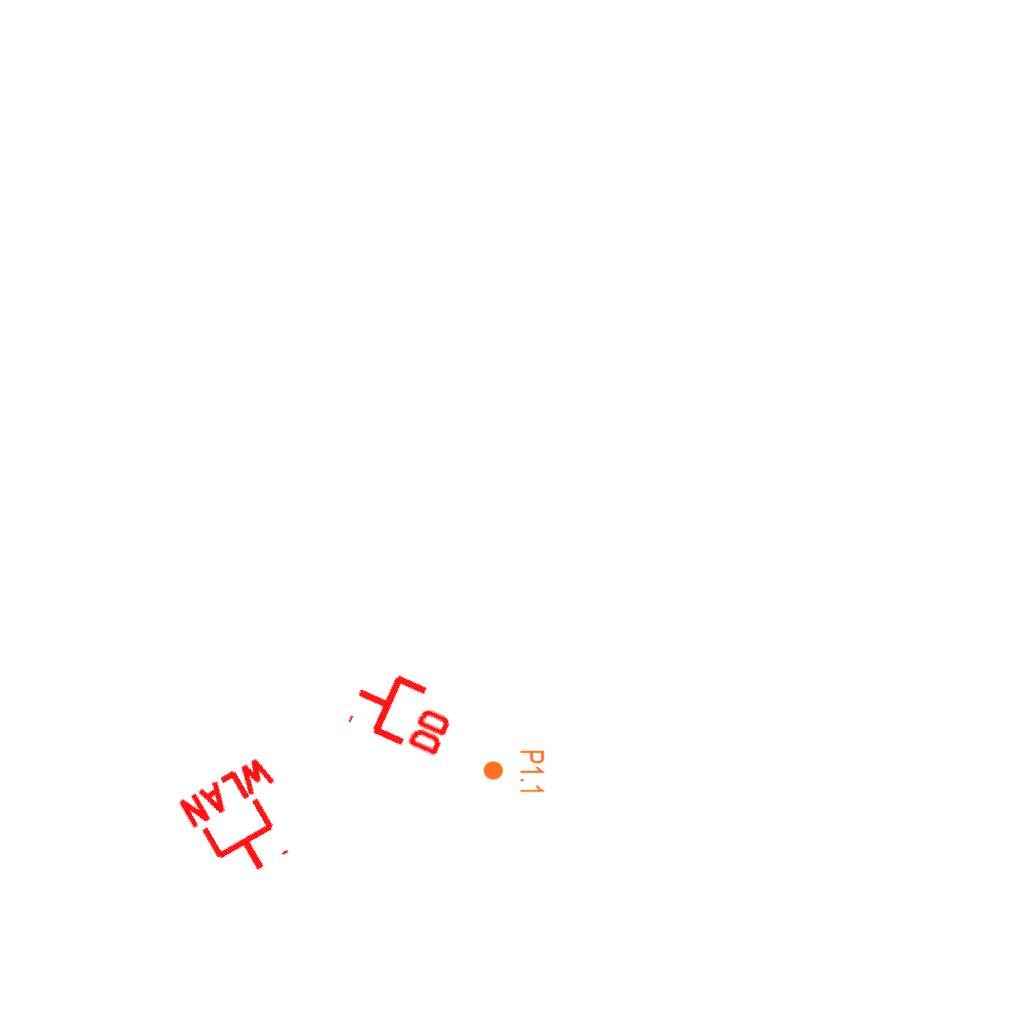Datenanschluss_zweifach: (343, 658, 466, 763)
Downlight_LED_Einbauleuchten_Flur: (482, 749, 546, 795)
WLAN: (173, 750, 316, 894)
